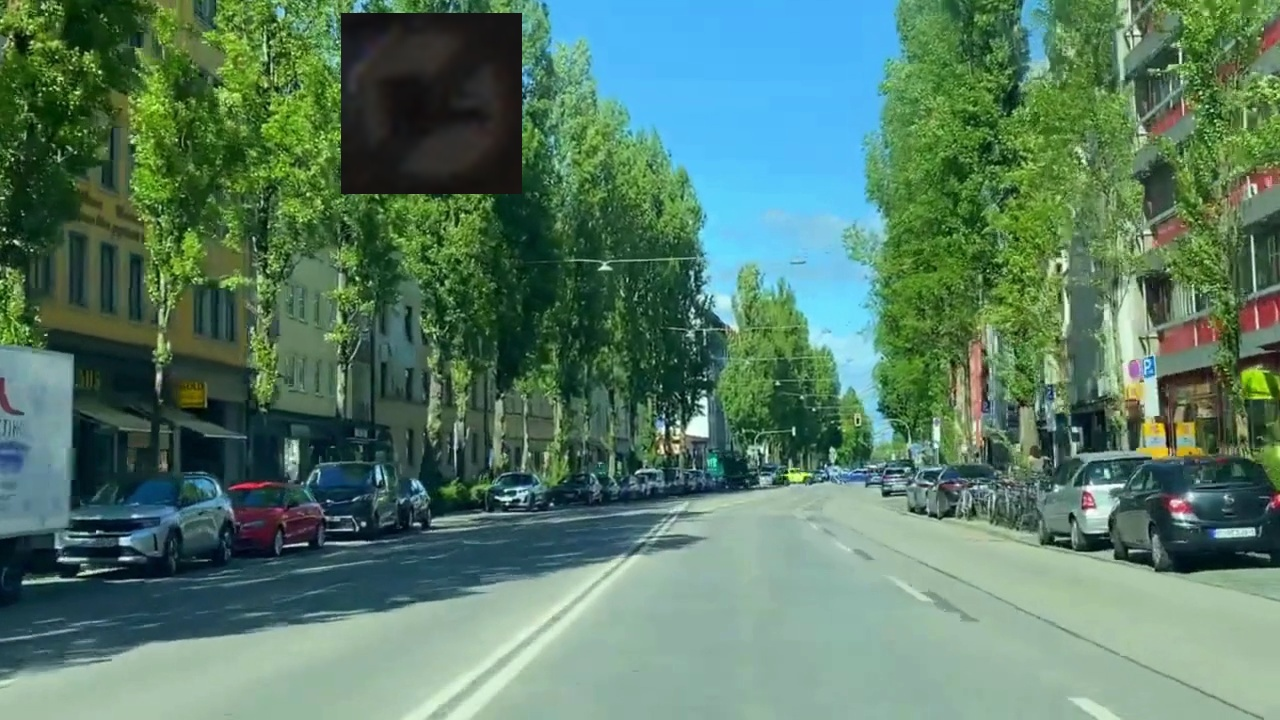End no pass >3.5t: (341, 13, 522, 194)
